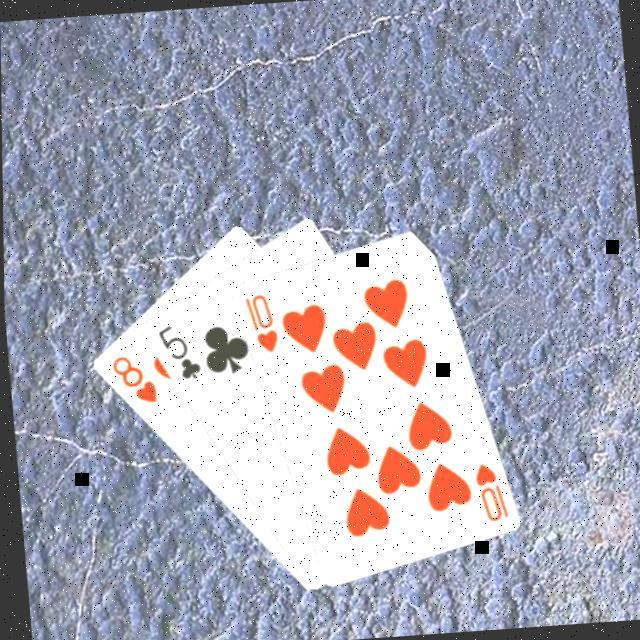10H: (239, 288, 281, 356), (470, 457, 510, 524)
5C: (152, 318, 204, 383)
8H: (106, 348, 160, 408)
